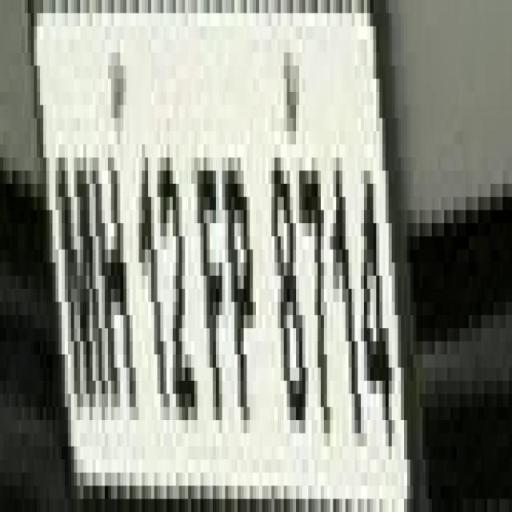number plate: (12, 26, 466, 512)
